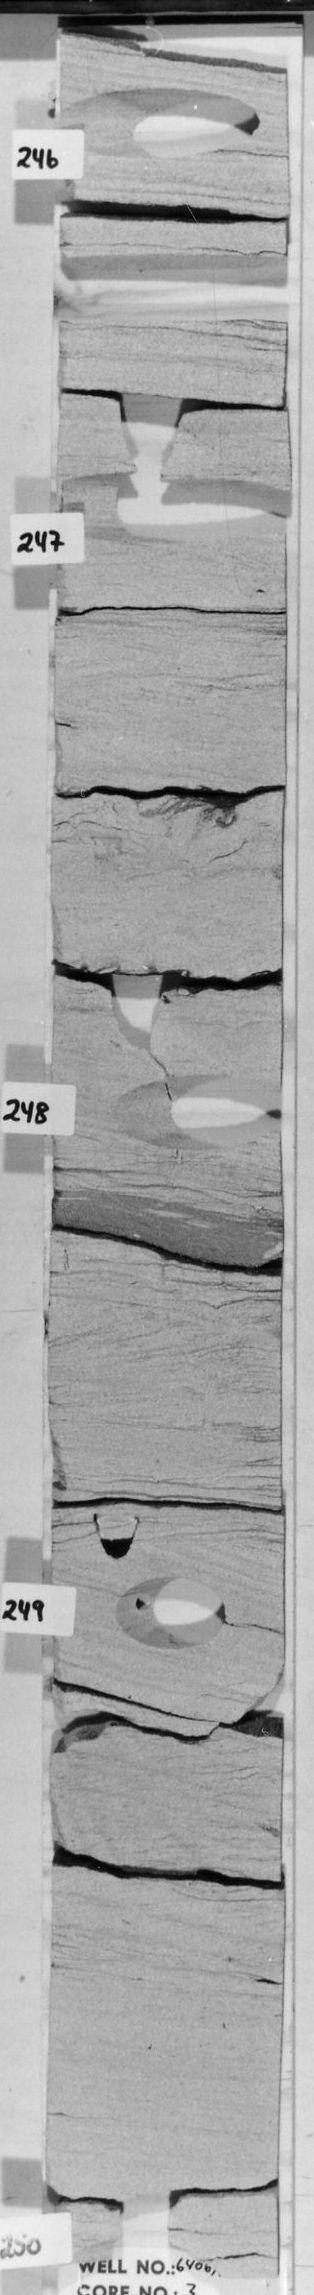hplug: (57, 467, 288, 555), (79, 89, 272, 170), (114, 1068, 277, 1156), (108, 1570, 237, 1651)
scal: (61, 246, 283, 340)
vplug: (99, 2184, 185, 2273), (110, 389, 204, 468), (108, 959, 169, 1060), (91, 1505, 142, 1570)
